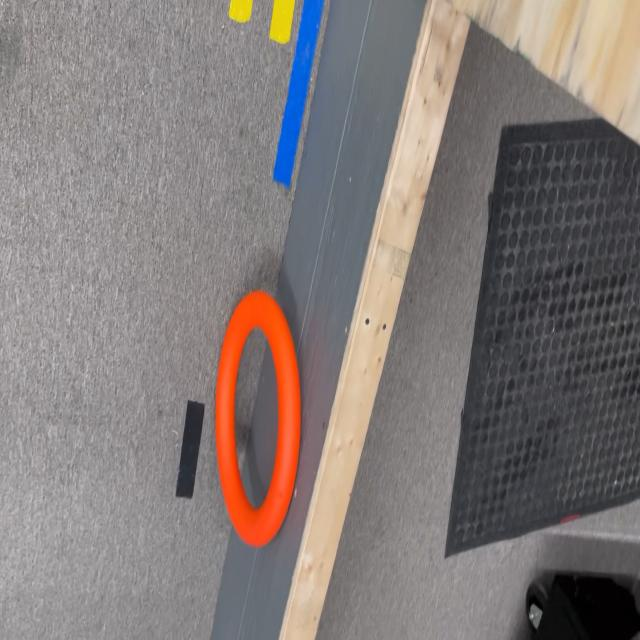note: (213, 292, 303, 542)
